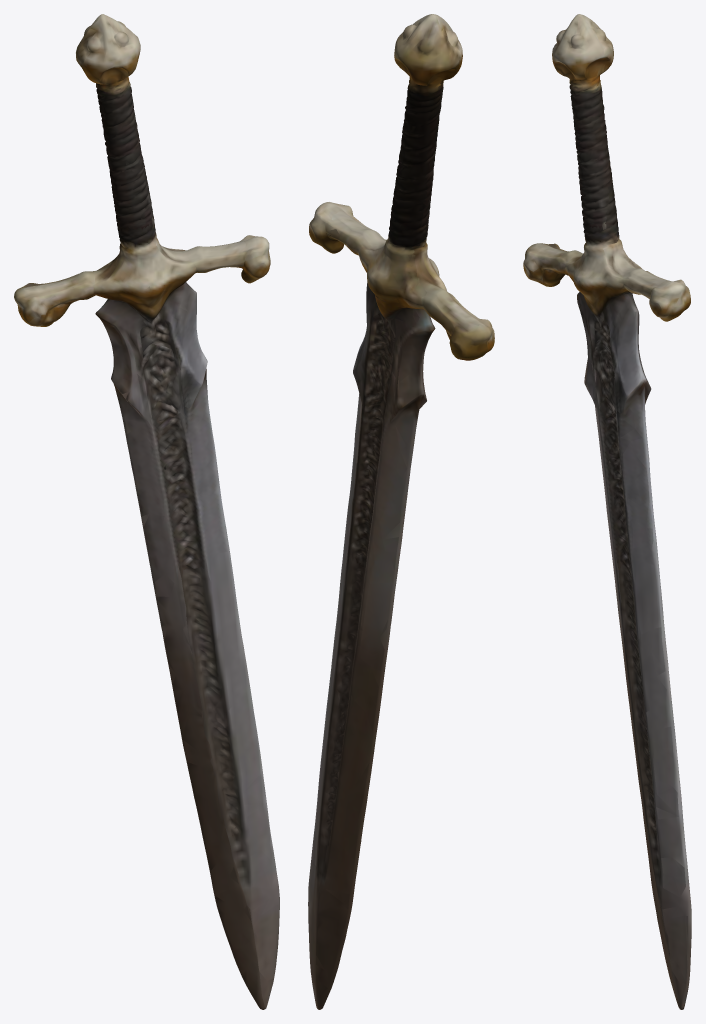
The model's file is FallenPaladin_Sword.glb.
3 views of the same model, side by side, from view 1: azimuth 30°, elevation 25°; view 2: azimuth 150°, elevation 25°; view 3: azimuth 330°, elevation 25° (orthographic). The views are drawn at different scales.
Parts seen in each view (by area): view 1: FallenPaladin_Sword; view 2: FallenPaladin_Sword; view 3: FallenPaladin_Sword.
Boxes of the visible parts, box(x1,y1,x2,y2) form: FallenPaladin_Sword: box(14, 14, 279, 1009); FallenPaladin_Sword: box(308, 14, 494, 1009); FallenPaladin_Sword: box(523, 14, 691, 1009).
Bounding box in the file's own units: 0.409 × 1.8 × 0.2126.
Materials: 1 (1 with a texture image).
